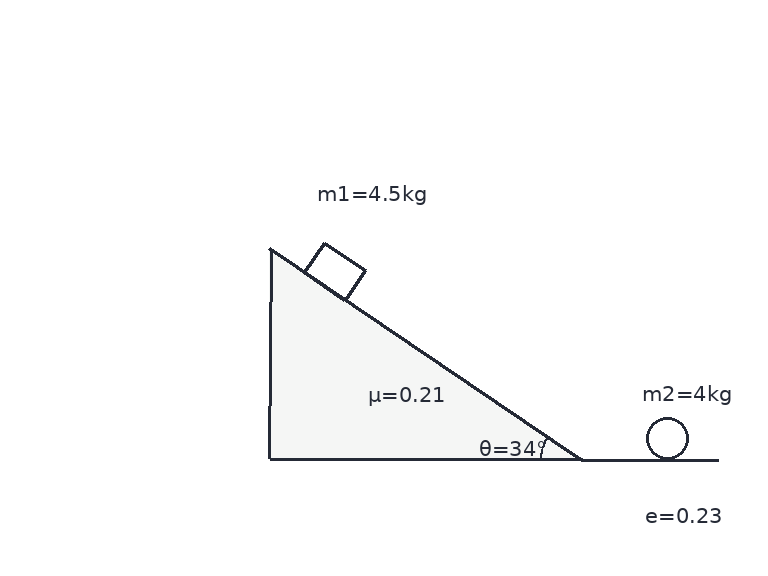ball: (644, 415, 690, 461)
block: (302, 241, 367, 302)
ramp: (267, 247, 583, 461)
